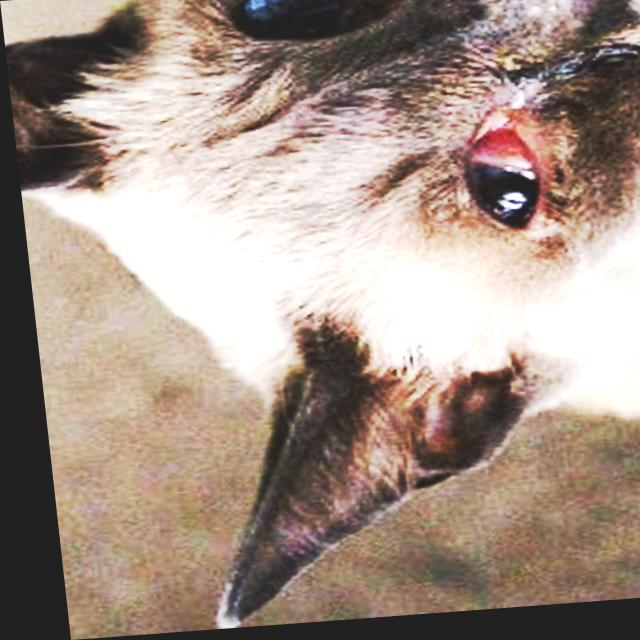eye_infection: (469, 104, 547, 229)
